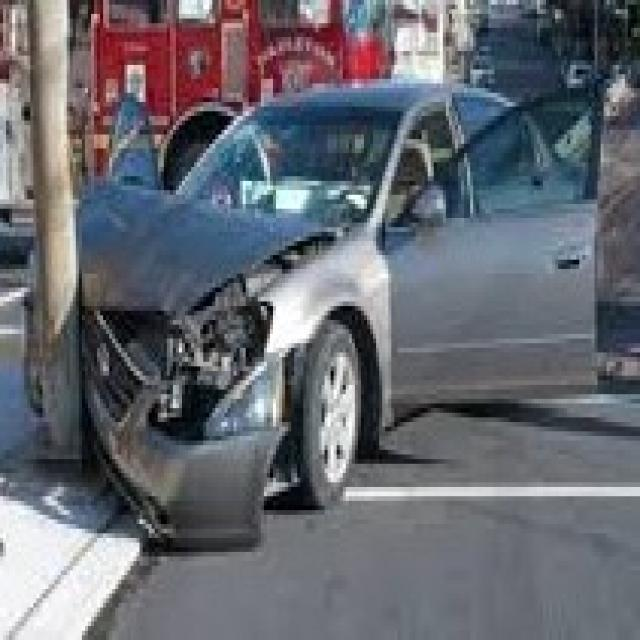severe: (13, 206, 338, 568)
